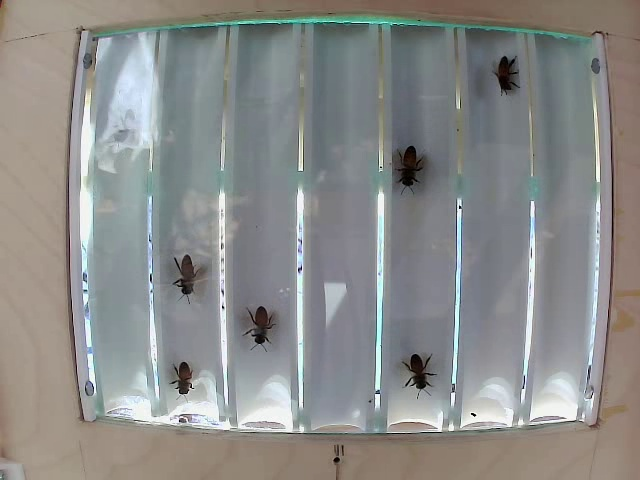bee: (149, 245, 206, 305), (389, 132, 430, 193), (157, 350, 209, 397), (239, 305, 282, 358), (497, 40, 525, 109), (398, 345, 441, 387)
